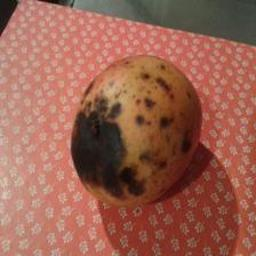Mango Semirotten: (55, 48, 203, 200)
